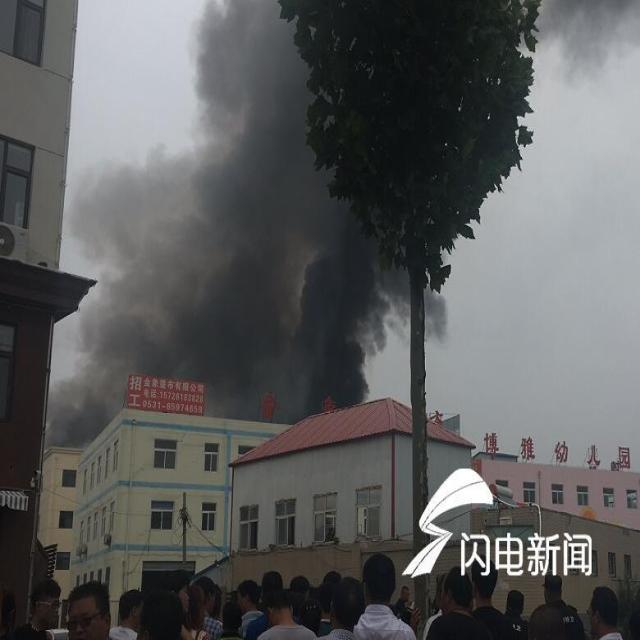Smoke: (44, 1, 411, 452), (537, 1, 640, 78), (424, 282, 452, 346)
